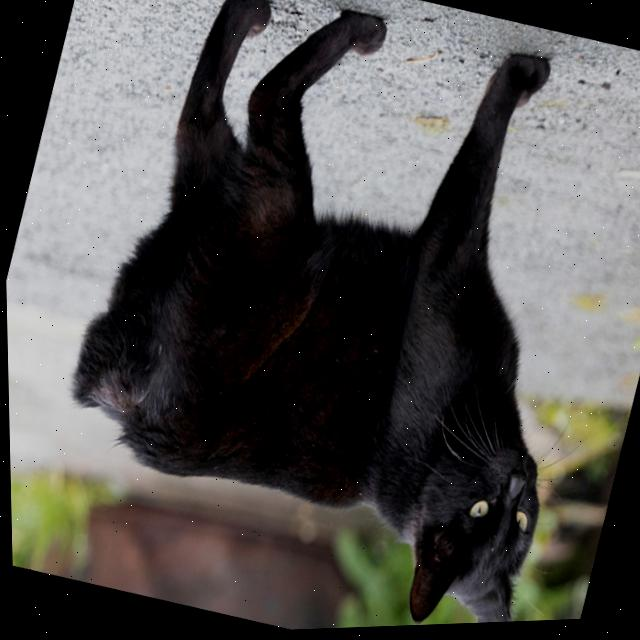American Bobtail: (11, 0, 640, 640)
